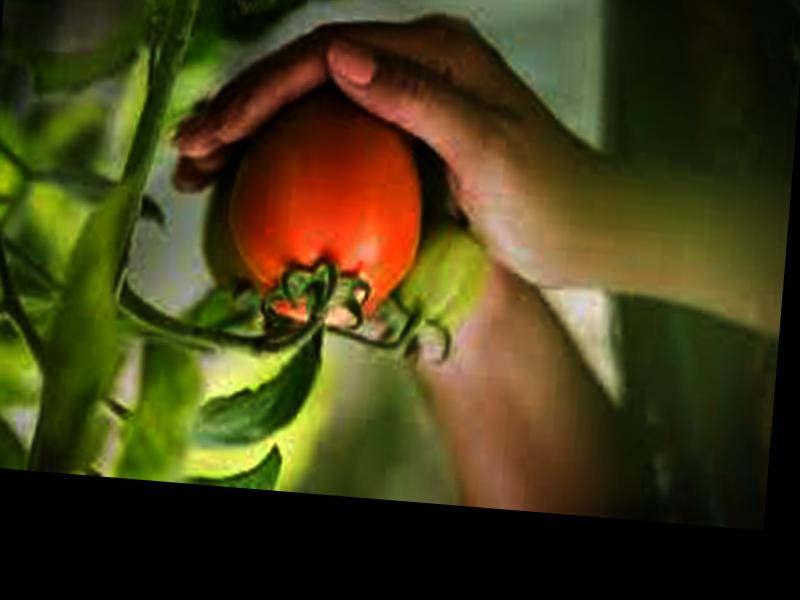Tomato: (223, 96, 430, 330)
